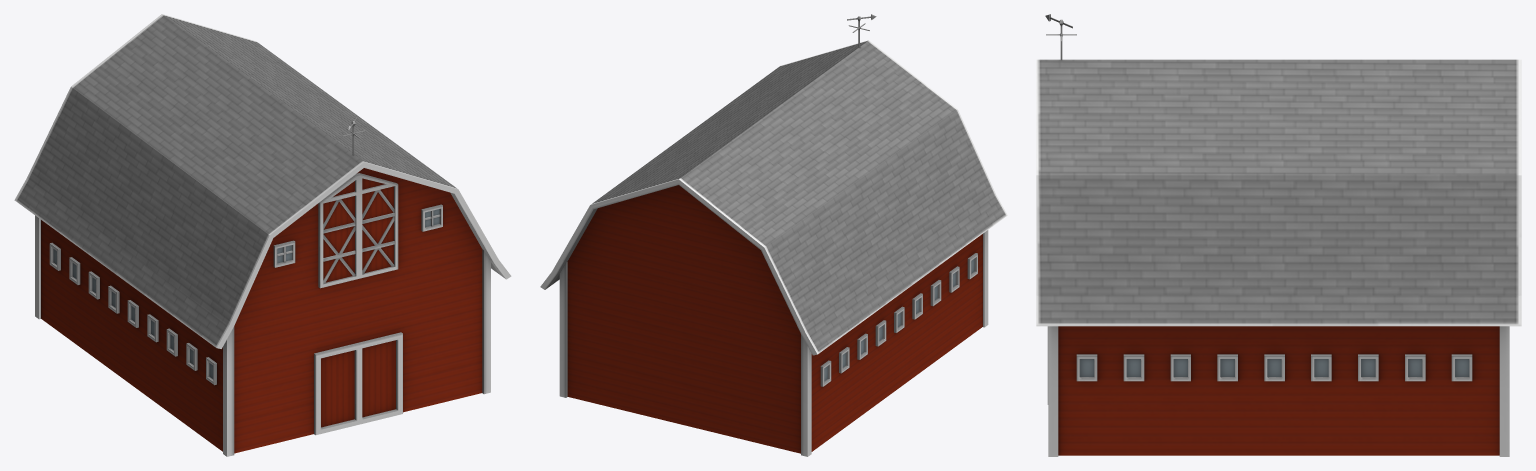
File: west_barn.glb
3 views of the same model, side by side, from view 1: azimuth 30°, elevation 25°; view 2: azimuth 150°, elevation 25°; view 3: azimuth 270°, elevation 25° (orthographic). The views are drawn at different scales.
Visible parts, largest first — view 1: Barn_Mesh; view 2: Barn_Mesh; view 3: Barn_Mesh.
Boxes of the visible parts, x1=… form: Barn_Mesh: x1=14, y1=14, x2=511, y2=456; Barn_Mesh: x1=540, y1=14, x2=1007, y2=456; Barn_Mesh: x1=1036, y1=14, x2=1521, y2=456.
Bounding box in the file's own units: 8.67 × 8.43 × 10.3.
1 material, 1 textured.
